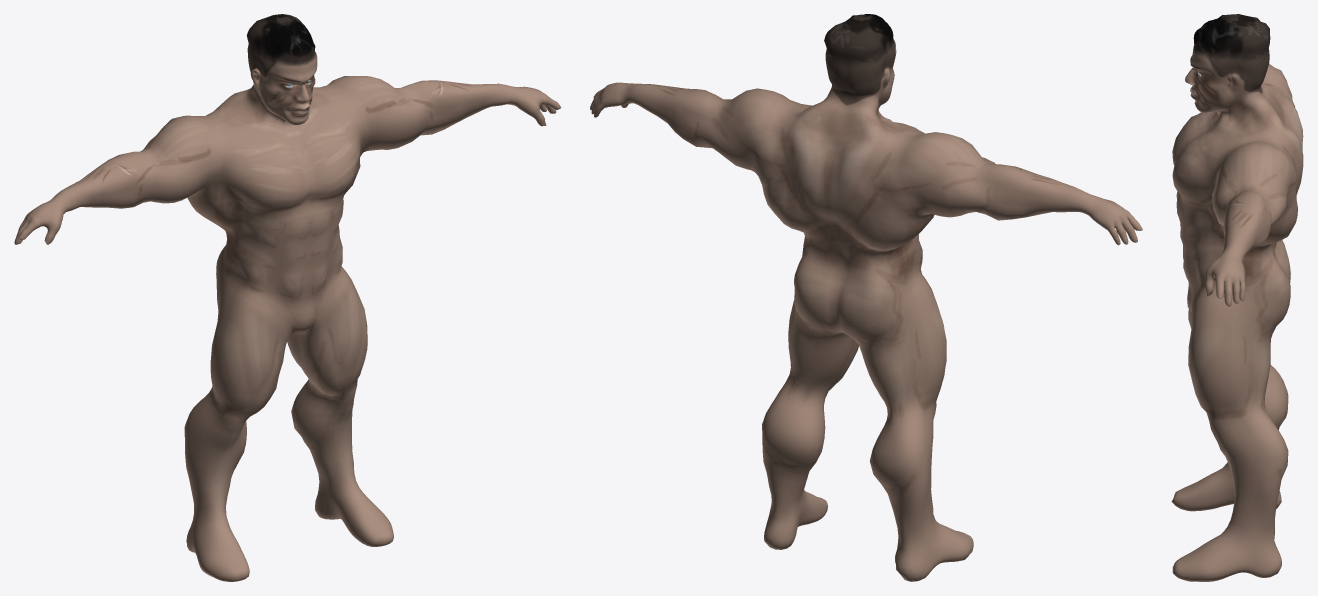
Rendered from dalbaeb.glb.
3 renders of one model, left to right at view 1: azimuth 30°, elevation 25°; view 2: azimuth 150°, elevation 25°; view 3: azimuth 270°, elevation 25°, orthographic.
Parts seen in each view (by area): view 1: male body; view 2: male body; view 3: male body.
Part boxes in pixels (x1=…): male body: x1=14, y1=14, x2=561, y2=581; male body: x1=590, y1=14, x2=1142, y2=581; male body: x1=1171, y1=14, x2=1303, y2=581.
Bounding box in the file's own units: 2.18 × 2.03 × 0.461.
Materials: 1 (1 with a texture image).
